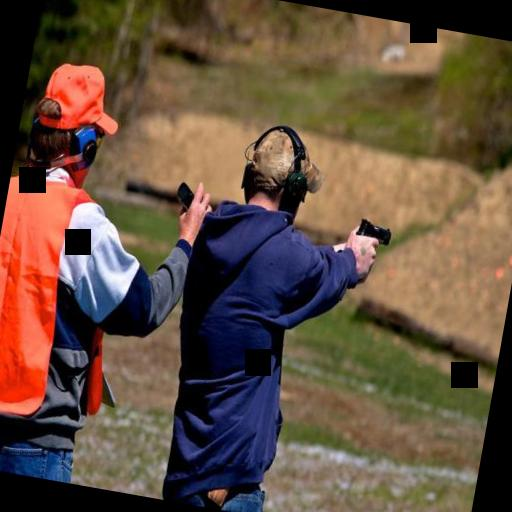Handgun: (344, 210, 393, 284)
